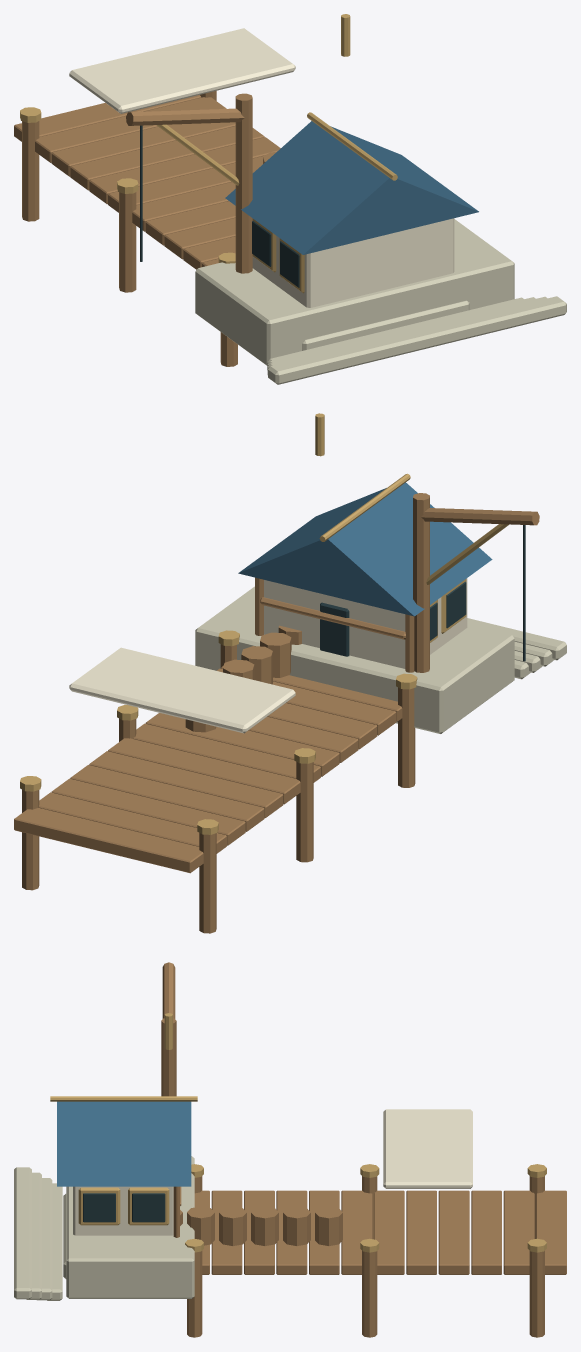
The model's file is level_27.glb.
The picture shows the model from 3 angles, top to bottom: view 1: azimuth 30°, elevation 25°; view 2: azimuth 150°, elevation 25°; view 3: azimuth 270°, elevation 25°; orthographic projection. The views are drawn at different scales.
Visible parts, largest first — view 1: fishing_wharf — level 27; view 2: fishing_wharf — level 27; view 3: fishing_wharf — level 27.
Boxes of the visible parts, x1,y1,x2,y2 form: fishing_wharf — level 27: (14, 14, 566, 384); fishing_wharf — level 27: (14, 413, 566, 933); fishing_wharf — level 27: (14, 962, 566, 1337).
Size of the model in its own units: 5.45 by 4.96 by 8.64.
